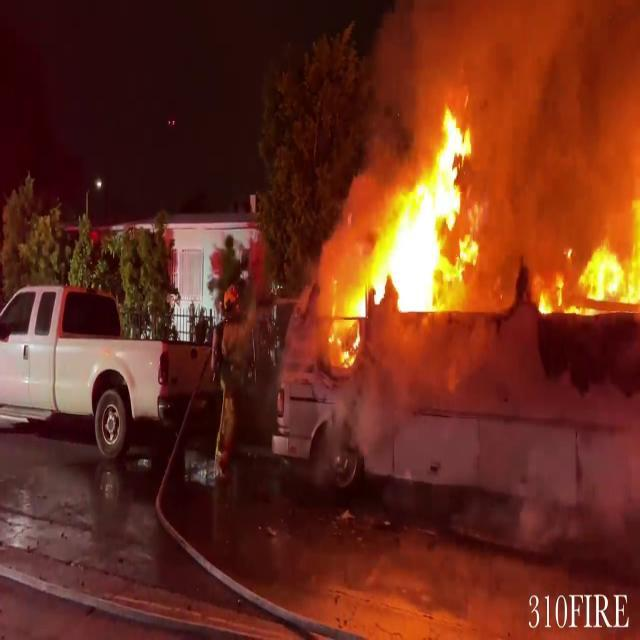Fire: (333, 99, 489, 353), (539, 166, 640, 333)
Smoke: (374, 0, 640, 178)
